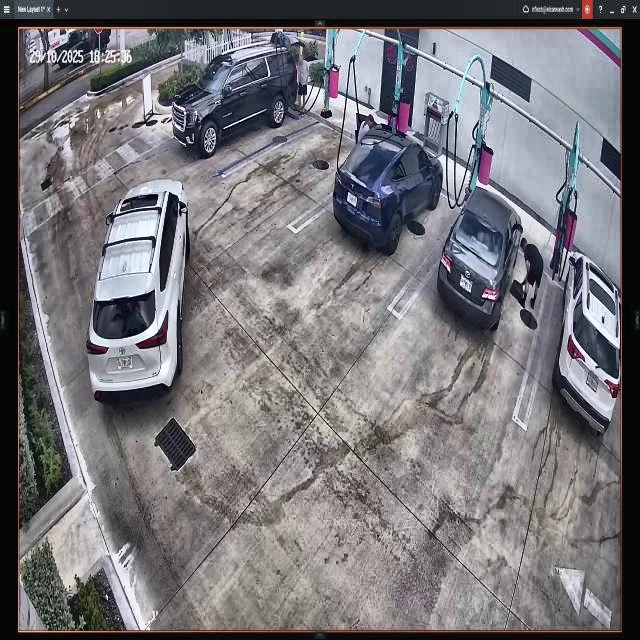Car: (90, 178, 189, 391), (333, 122, 443, 251), (438, 184, 522, 328)
